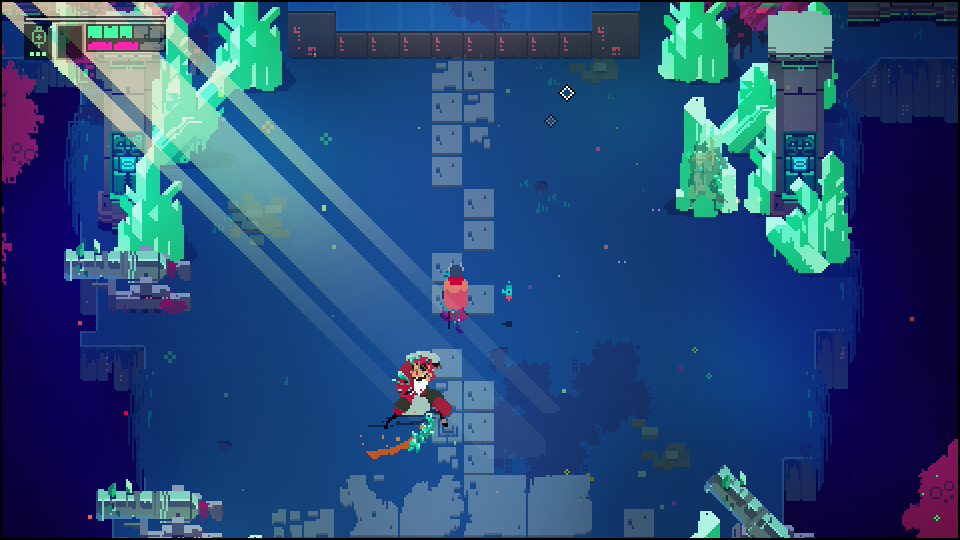hanged_man: (372, 350, 446, 466)
player: (442, 261, 469, 322)
